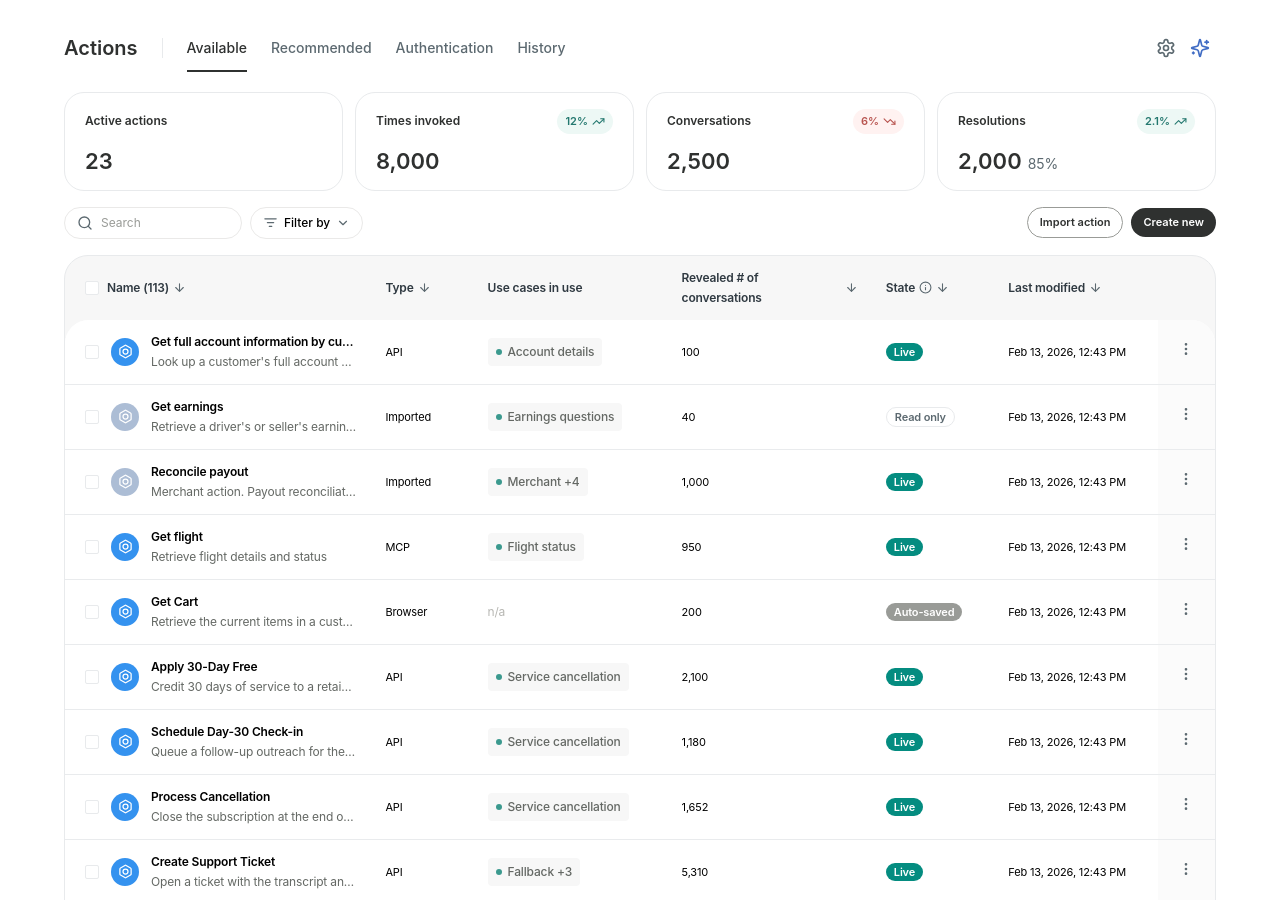
Test: ToolsScreen › switches to the History tab and renders the real history table
Click the tab "History" at (542, 54), box [517,36,566,72]
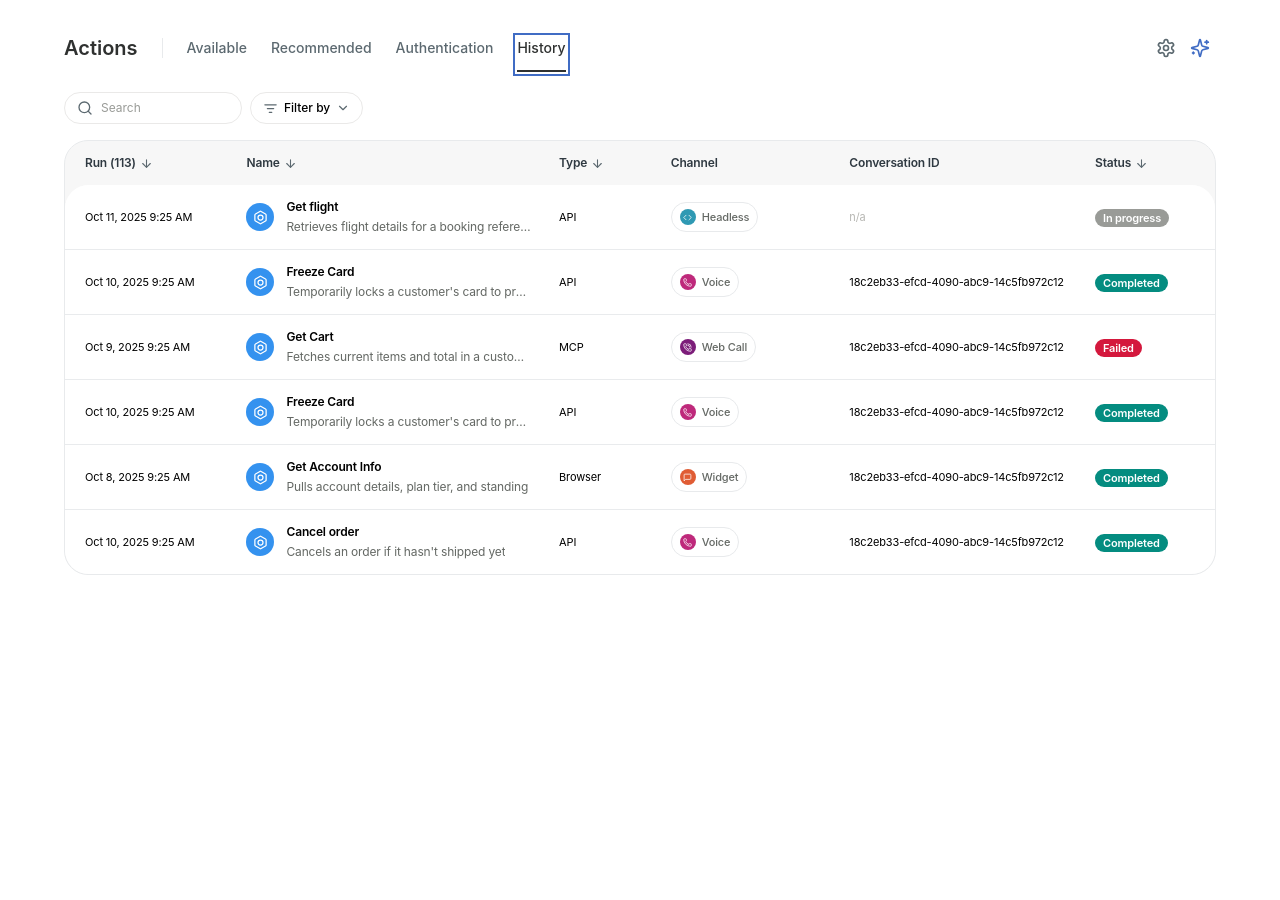
expect the text "Name (113)" is gone: met
expect the table with test id "tools-history-table" is shown: met, box [65,141,1215,574]
